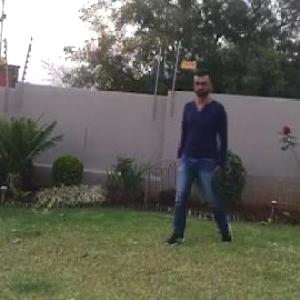follow: (173, 71, 231, 240)
